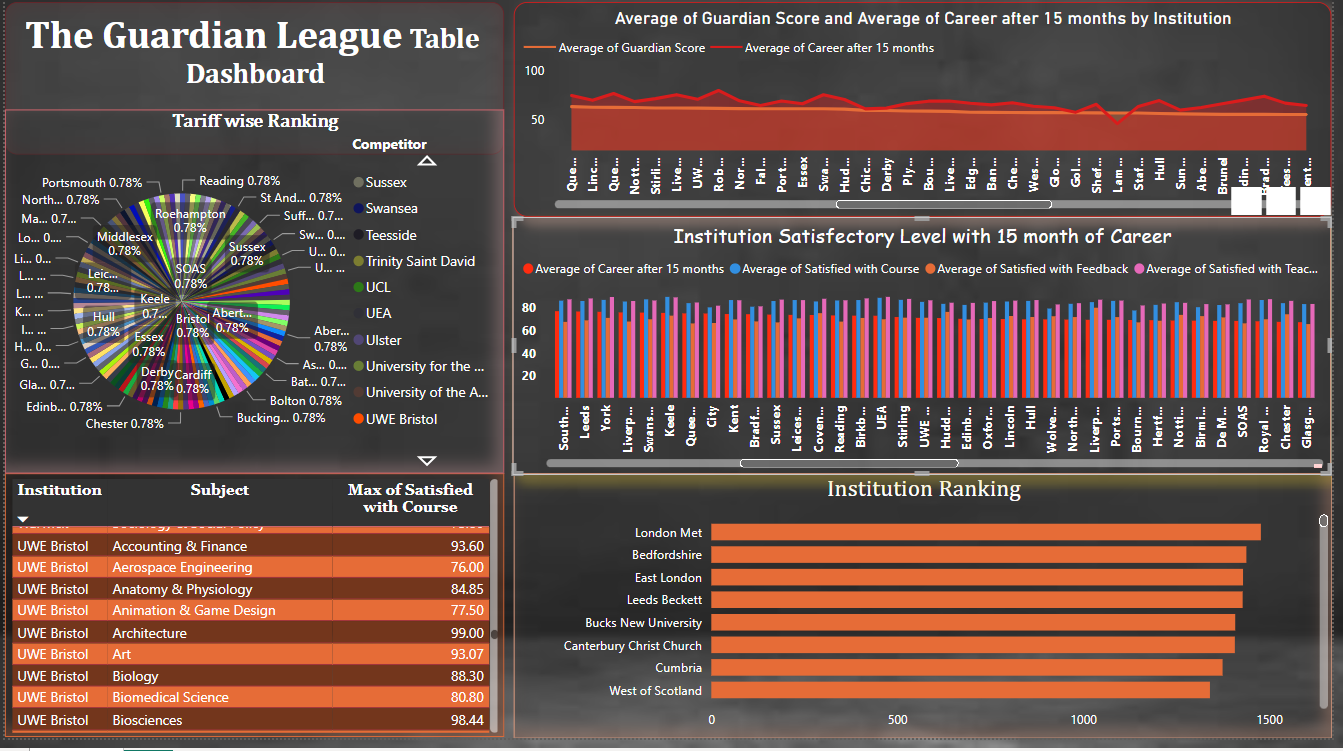

What the dashboard file says about the page in this screenshot:
{"tool":"powerbi","page":{"name":"Page 1","canvas":[1280,720],"ordinal":0},"visuals":[{"type":"clusteredBarChart","title":"Institution Ranking","fields":{"Category":["Institution Level Data.Institution"],"Y":["Sum(Institution Level Data.Rank)"]},"box":[490.9,464.3,789.9,255.7],"z":0},{"type":"tableEx","fields":{"Values":["Subject Level Data.Institution","Subject Level Data.Subject","Max(Subject Level Data.Satisfied with Course)"]},"box":[0,464.3,481.2,254.5],"z":1000},{"type":"textbox","box":[0,10,481.2,147.5],"z":2000},{"type":"areaChart","fields":{"Category":["Institution Level Data.Institution"],"Y":["Avg(Institution Level Data.Guardian Score)","Avg(Institution Level Data.Career after 15 months)"]},"box":[490.9,9.6,788.7,207.4],"z":3000},{"type":"lineClusteredColumnComboChart","title":"Institution Satisfectory Level with 15 month of Career","fields":{"Category":["Institution Level Data.Institution"],"Y":["Avg(Institution Level Data.Career after 15 months)","Avg(Institution Level Data.Satisfied with Course)","Avg(Institution Level Data.Satisfied with Feedback)","Avg(Institution Level Data.Satisfied with Teaching)"]},"box":[490.9,217.1,789.9,248.4],"z":4000},{"type":"donutChart","title":"Competitor Ranking","fields":{"Category":["Institution (Competitor Institutions).Column2"],"Y":["Sum(Institution Level Data.Rank)"]},"box":[0,158,481.2,306.3],"z":5000}]}

Visuals, with their boxes in screenshot pixels (x1, y1, x2, y2), scaled from the page's 1280x720 canvas onto the 1343x751 screenshot:
"Institution Ranking" clusteredBarChart: pyautogui.locateOnScreen(515, 484, 1342, 750)
tableEx - Subject Level Data.Institution x Subject Level Data.Subject: pyautogui.locateOnScreen(0, 484, 505, 750)
textbox: pyautogui.locateOnScreen(0, 10, 505, 164)
areaChart - Institution Level Data.Institution x Avg(Institution Level Data.Guardian Score): pyautogui.locateOnScreen(515, 10, 1342, 226)
"Institution Satisfectory Level with 15 month of Career" lineClusteredColumnComboChart: pyautogui.locateOnScreen(515, 226, 1342, 486)
"Competitor Ranking" donutChart: pyautogui.locateOnScreen(0, 165, 505, 484)
